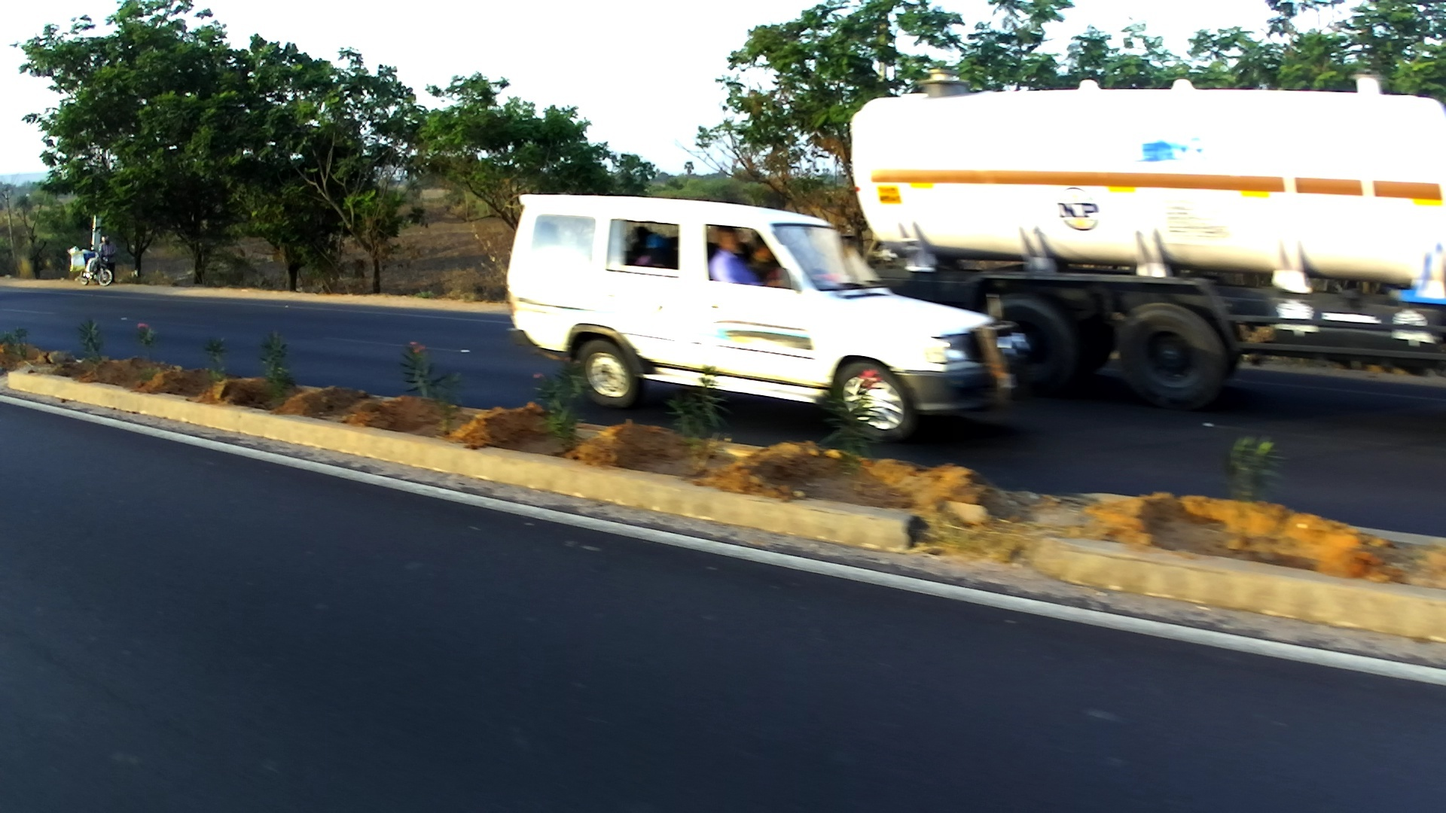car: (502, 191, 1030, 443), (72, 244, 115, 287)
rider: (95, 235, 118, 284)
truck: (850, 64, 1446, 406)
